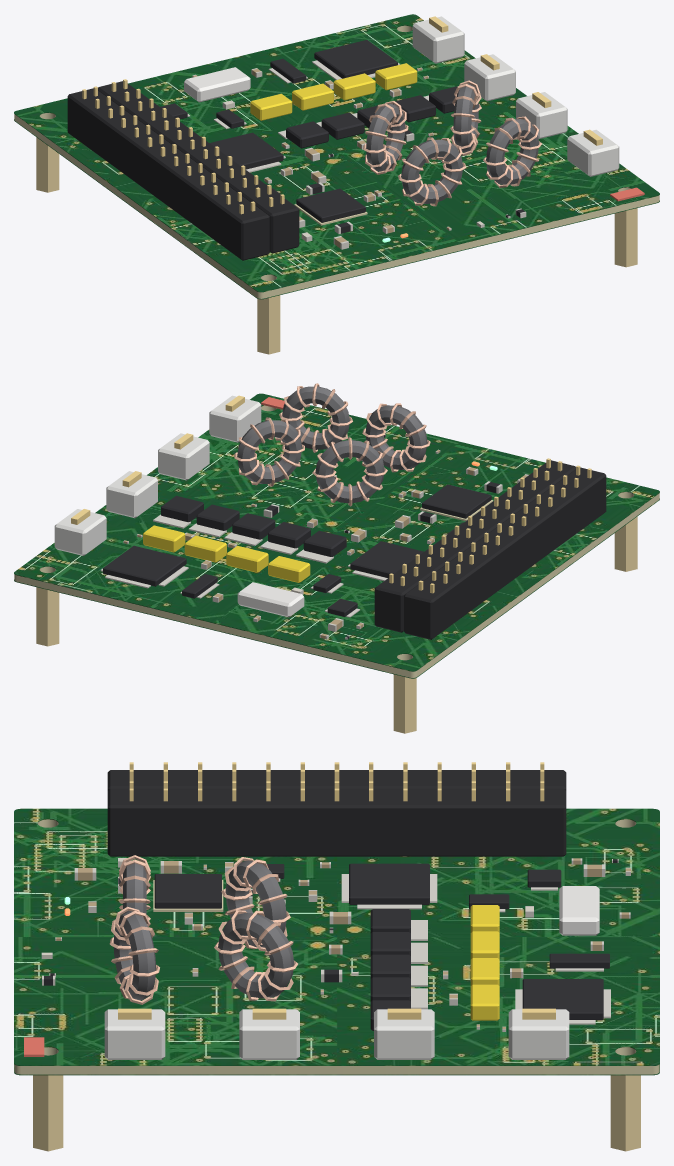
File: eps_board.glb
3 renders of one model, top to bottom at view 1: azimuth 30°, elevation 25°; view 2: azimuth 150°, elevation 25°; view 3: azimuth 270°, elevation 25°, orthographic. The views are drawn at different scales.
Parts seen in each view (by area): view 1: eps_board; view 2: eps_board; view 3: eps_board.
Boxes of the visible parts, x1,y1,x2,y2 form: eps_board: (14, 14, 659, 354); eps_board: (14, 383, 659, 733); eps_board: (14, 762, 659, 1151).
Bounding box in the file's own units: 0.0902 × 0.0298 × 0.0959.
17 materials, 1 textured.
